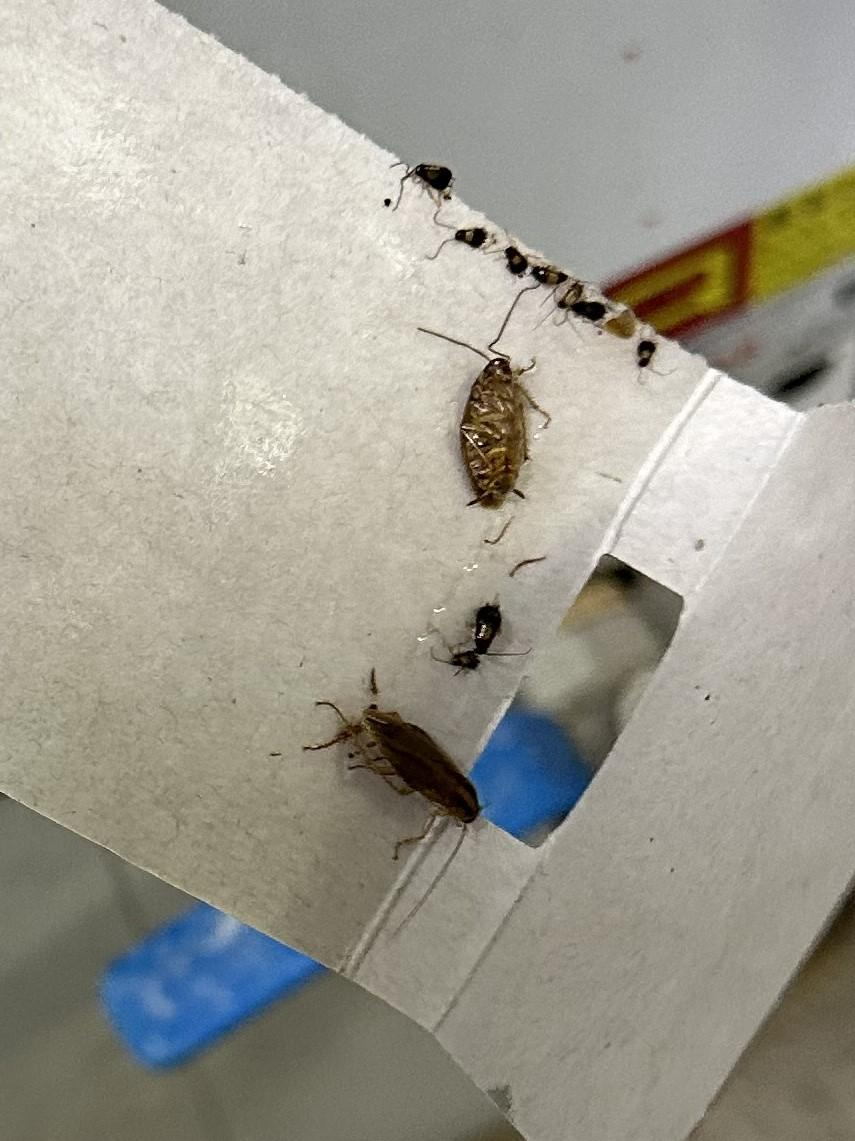cockroach: (318, 656, 498, 871), (407, 325, 569, 527), (379, 538, 572, 699), (358, 141, 474, 226), (412, 196, 500, 278)
